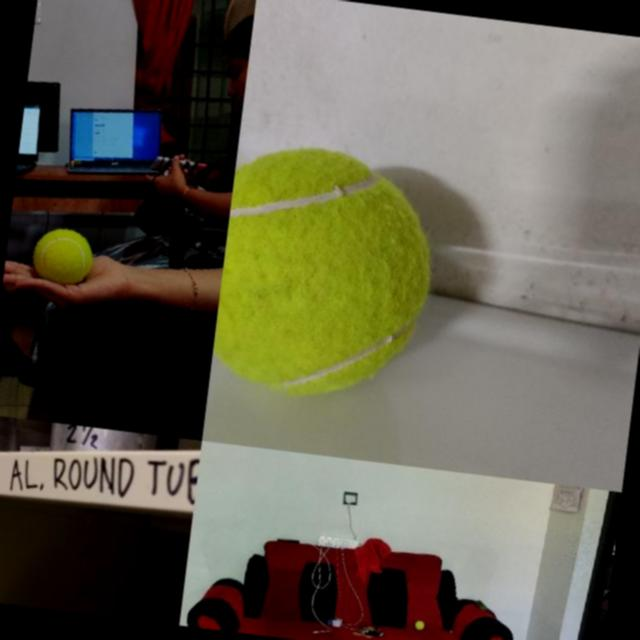Tennis Ball: (208, 136, 449, 412), (31, 226, 94, 284), (413, 620, 424, 630)
